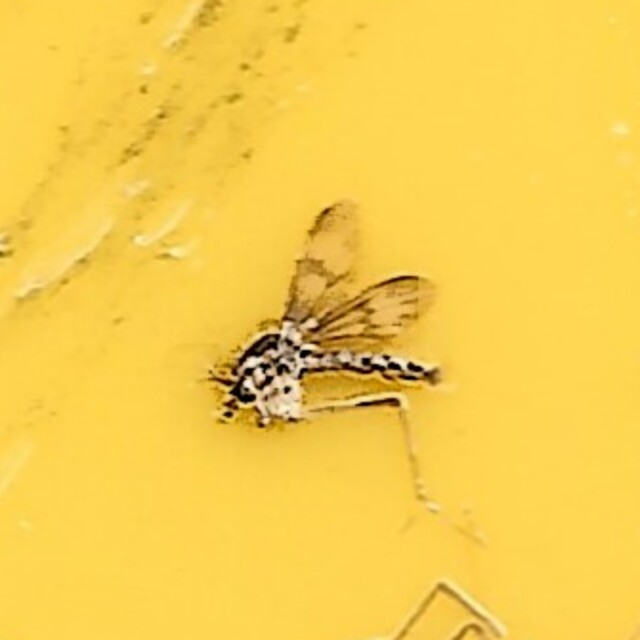Nematocera: (191, 200, 449, 440)
